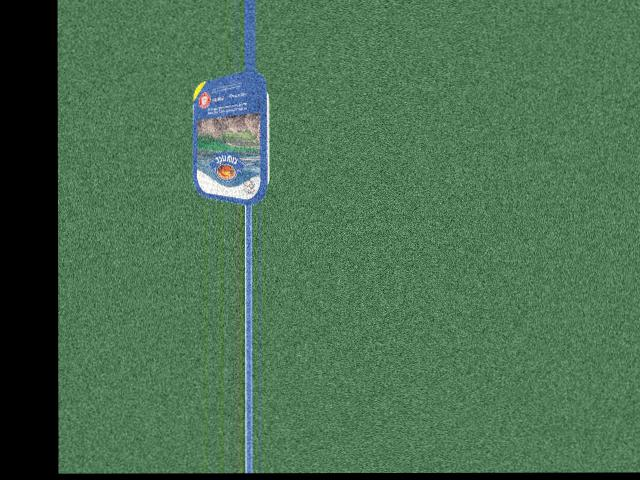cheese: (188, 85, 278, 195)
